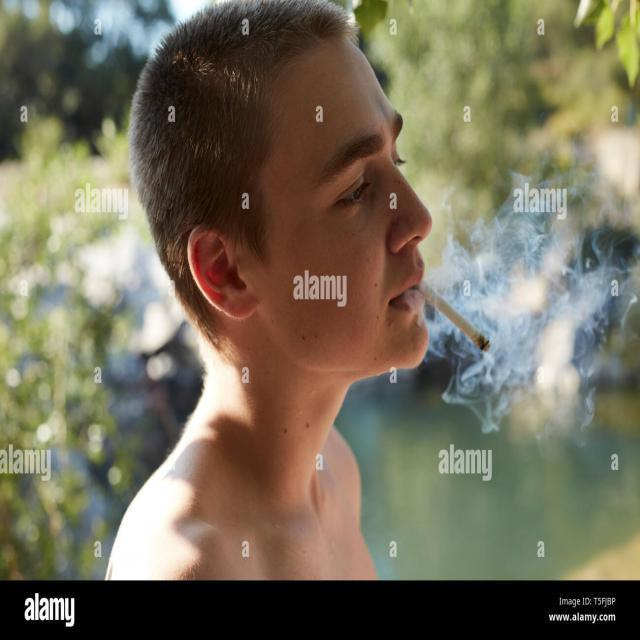smoking: (404, 252, 537, 355)
